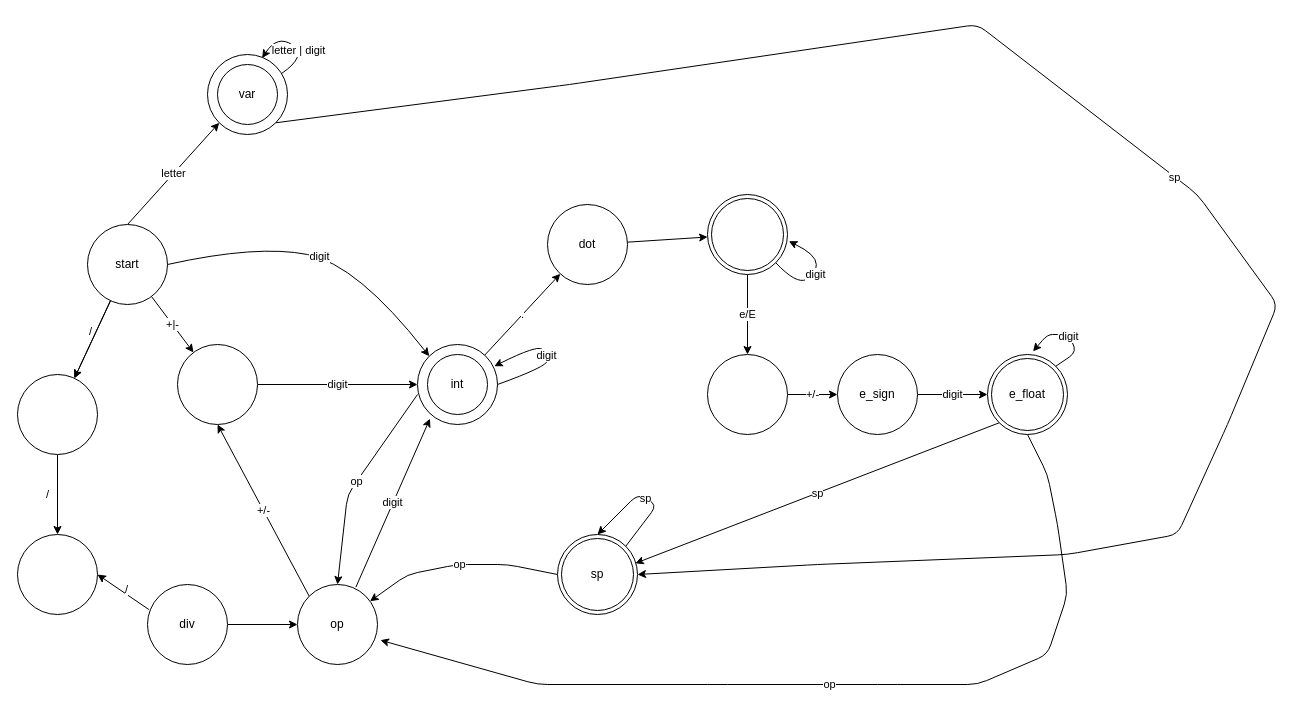
The diagram is 1303 pixels wide and 710 high, and some of its shapes have lost their labels. Each missing label, with the centre of its shape:
"comment" belongs at point 57,574.
"comment start" belongs at point 57,414.
"exp" belongs at point 747,394.
"float" belongs at point 747,234.
"n_sign" belongs at point 217,384.
